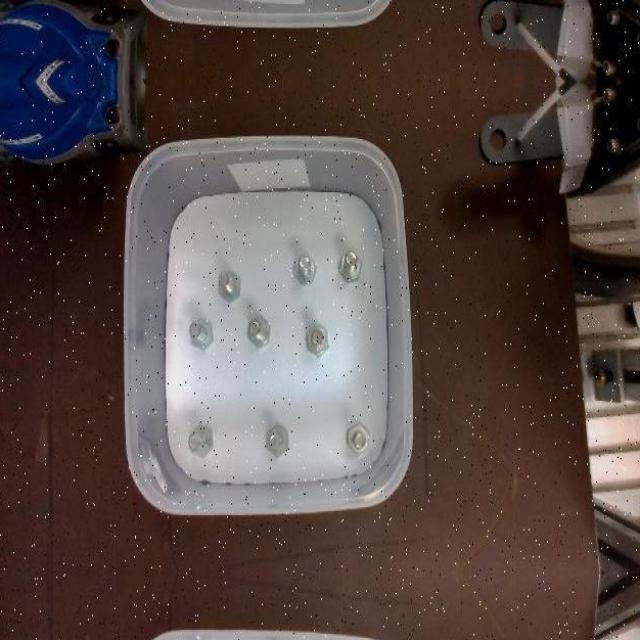screw: (188, 423, 214, 458), (266, 422, 289, 458), (307, 322, 331, 356), (293, 252, 318, 284), (189, 318, 213, 351), (339, 250, 362, 282), (347, 421, 369, 454), (248, 317, 271, 348), (219, 269, 241, 300)
